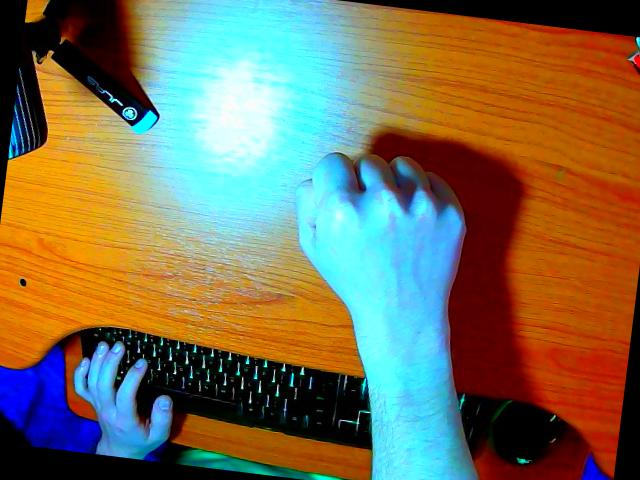rock: (296, 153, 478, 480)
